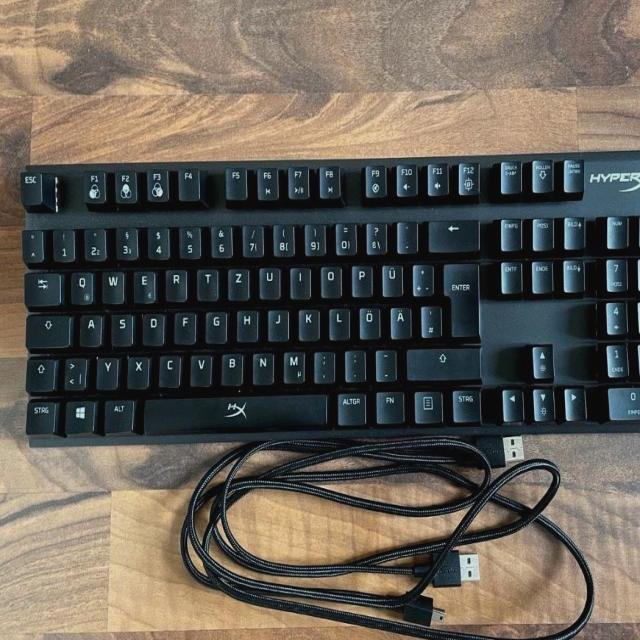0: (333, 218, 357, 254)
1: (50, 224, 74, 260)
2: (81, 224, 106, 260)
3: (113, 223, 138, 259)
4: (146, 222, 170, 258)
5: (176, 222, 201, 258)
6: (208, 221, 233, 257)
7: (240, 220, 265, 256)
8: (270, 219, 295, 257)
9: (302, 219, 326, 255)
a: (77, 309, 102, 345)
accent: (394, 217, 416, 252)
ae: (388, 301, 411, 337)
alt-left: (101, 395, 133, 431)
altgr-right: (334, 387, 366, 423)
b: (219, 348, 243, 384)
c: (156, 350, 180, 385)
caret: (20, 224, 43, 260)
comma: (312, 346, 334, 382)
d: (140, 308, 164, 344)
del: (490, 460, 557, 509), (426, 215, 478, 251)
e: (131, 265, 156, 301)
enter: (440, 257, 478, 335)
f: (173, 306, 196, 342)
g: (203, 307, 227, 342)
h: (234, 305, 258, 341)
hash: (419, 301, 441, 336)
i: (288, 262, 311, 297)
j: (265, 304, 288, 340)
k: (297, 304, 320, 339)
keyboard: (10, 144, 640, 447)
l: (326, 303, 349, 338)
less: (61, 352, 85, 388)
m: (281, 346, 305, 381)
minus: (373, 345, 396, 380)
n: (250, 347, 274, 383)
o: (318, 262, 342, 297)
oe: (357, 302, 380, 338)
p: (350, 261, 373, 295)
plus: (411, 259, 433, 294)
point: (342, 346, 364, 380)
q: (69, 267, 93, 303)
r: (163, 264, 187, 300)
s: (109, 309, 133, 345)
shift-left: (24, 354, 54, 390)
shift-lock: (24, 311, 70, 347)
shift-right: (404, 343, 480, 379)
space: (139, 390, 327, 430)
ss: (363, 217, 387, 253)
strg-left: (24, 396, 56, 432)
strg-right: (449, 385, 480, 421)
t: (195, 263, 219, 299)
tab: (22, 268, 60, 304)
u: (257, 262, 281, 298)
ue: (379, 260, 402, 295)
v: (188, 349, 212, 385)
w: (100, 266, 124, 302)
x: (125, 351, 149, 387)
y: (94, 352, 118, 388)
z: (225, 262, 249, 298)
